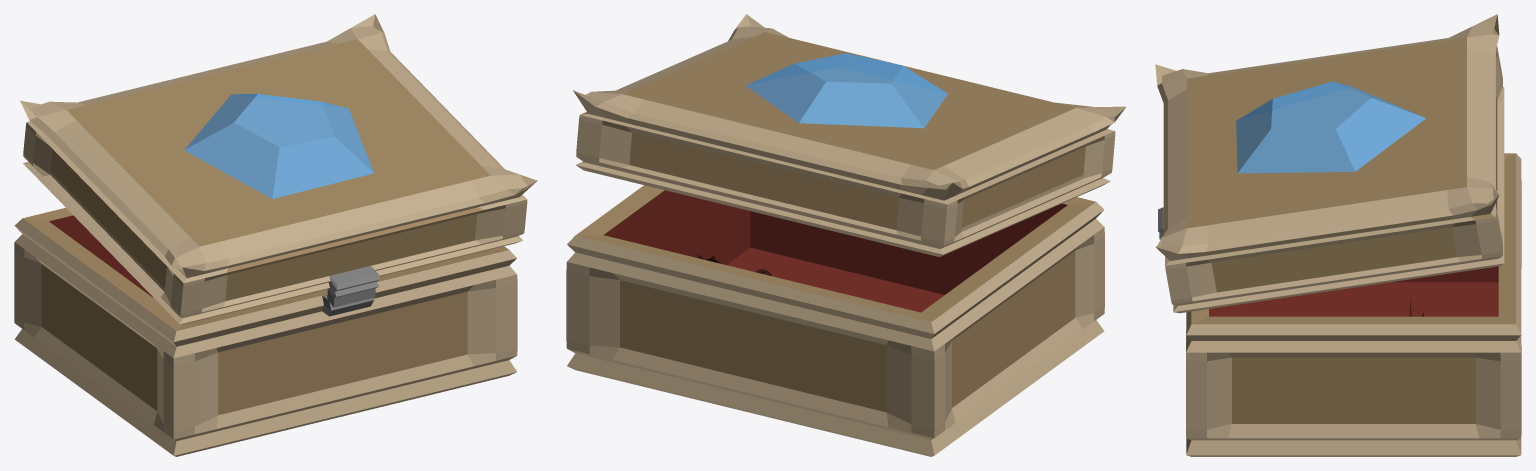
3 views of the same model, side by side, from view 1: azimuth 30°, elevation 25°; view 2: azimuth 150°, elevation 25°; view 3: azimuth 270°, elevation 25° (orthographic). The views are drawn at different scales.
Visible parts, largest first — view 1: Cube.003, Cube.001, Icosphere.001; view 2: Cube.001, Cube.003, Icosphere.001; view 3: Cube.003, Cube.001, Icosphere.001.
Boxes of the visible parts, x1,y1,x2,y2 form: Cube.003: (20, 14, 537, 324); Cube.001: (14, 208, 517, 456); Icosphere.001: (184, 93, 373, 198); Cube.001: (566, 185, 1104, 456); Cube.003: (573, 14, 1125, 256); Icosphere.001: (745, 53, 947, 128); Cube.003: (1155, 14, 1504, 313); Cube.001: (1186, 153, 1521, 456); Icosphere.001: (1236, 81, 1426, 173).
Bounding box in the file's own units: 265 × 185 × 224.
